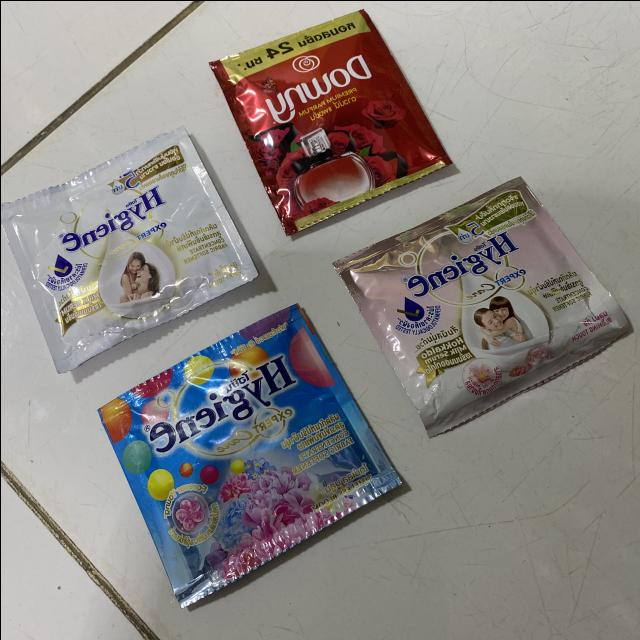plastik: (98, 304, 399, 605), (332, 176, 629, 435), (0, 126, 256, 371), (209, 9, 450, 234)
